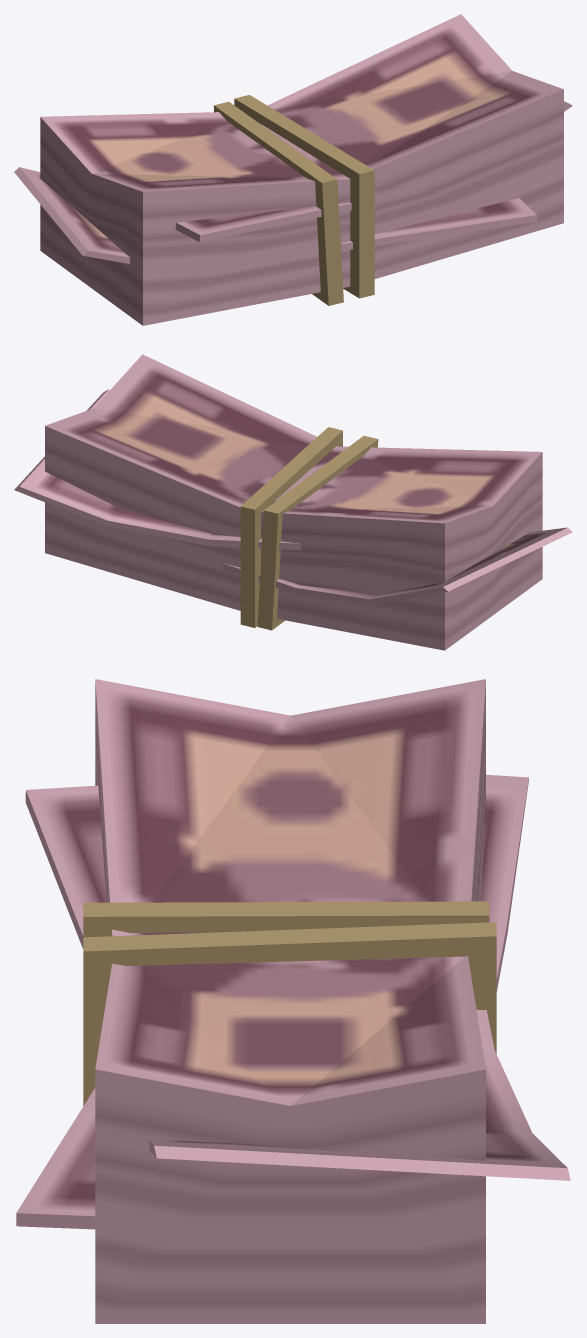
File: SM_Prop_Money_Strapped_03.fbx
3 renders of one model, top to bottom at view 1: azimuth 30°, elevation 25°; view 2: azimuth 150°, elevation 25°; view 3: azimuth 270°, elevation 25°, orthographic. The views are drawn at different scales.
Visible parts, largest first — view 1: SM_Prop_Money_Strapped_03; view 2: SM_Prop_Money_Strapped_03; view 3: SM_Prop_Money_Strapped_03.
Boxes of the visible parts, x1,y1,x2,y2 form: SM_Prop_Money_Strapped_03: (14,14,572,325); SM_Prop_Money_Strapped_03: (14,354,572,650); SM_Prop_Money_Strapped_03: (16,679,570,1323).
Size of the model in its own units: 32 by 9.7 by 16.42.
